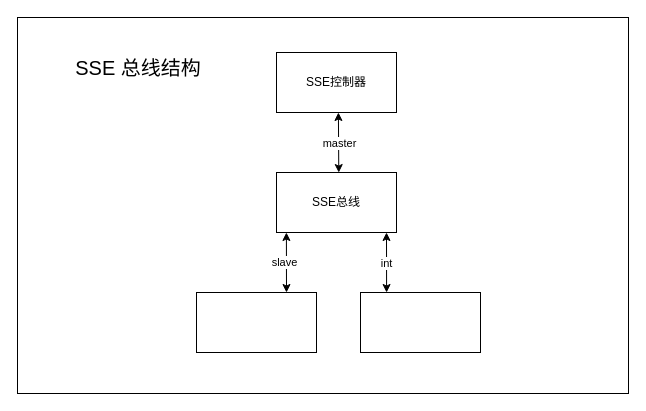
This 646x411 diagram has some shape labels left out. The centre of each missing label's shape, as x and y in pixels:
中断控制器: pixel 420 322
从设备集: pixel 256 322
